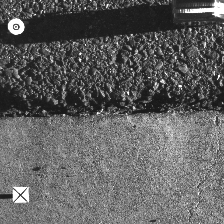circle: (8, 18, 25, 35)
crack: (1, 95, 223, 118)
square: (12, 187, 29, 203)
